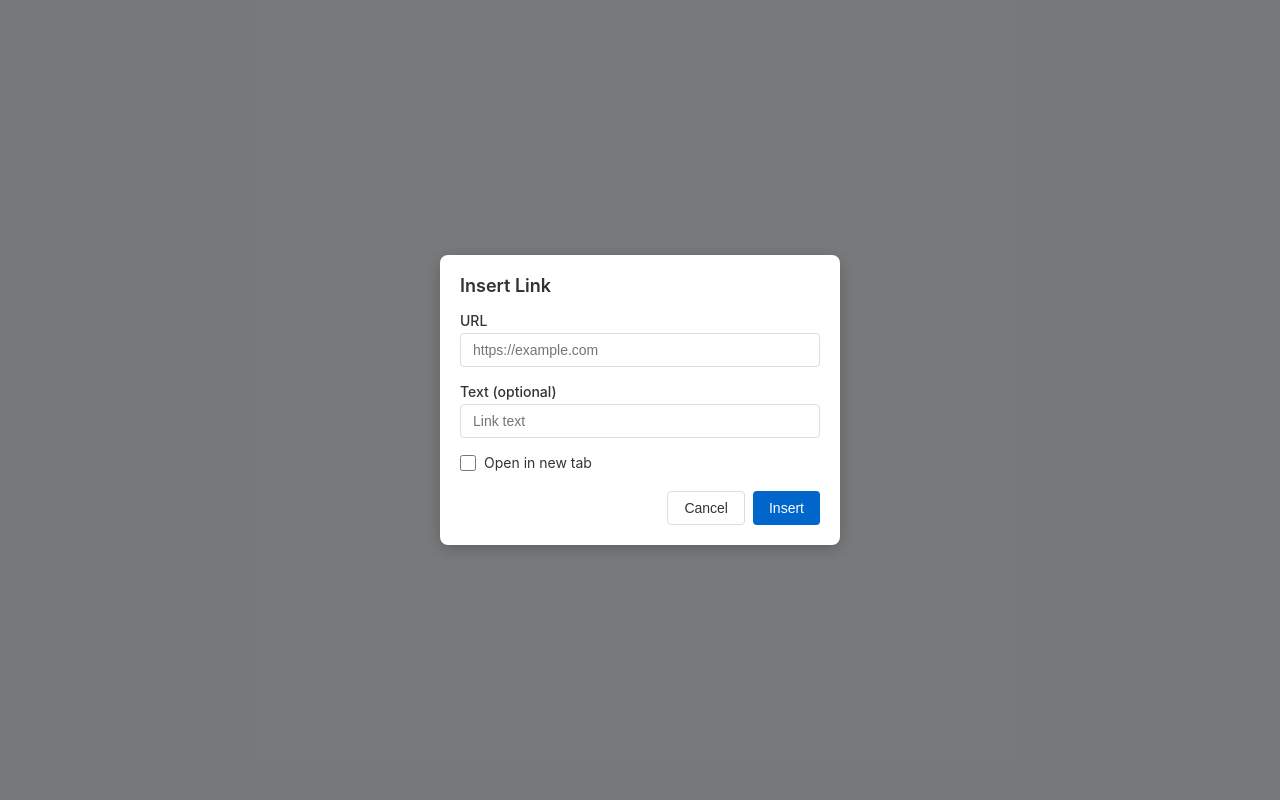
it: LinkDialog › Form Validation › shows error when URL is empty
Step 1. Click the button "Insert" → (786, 508), box [753,491,820,525]
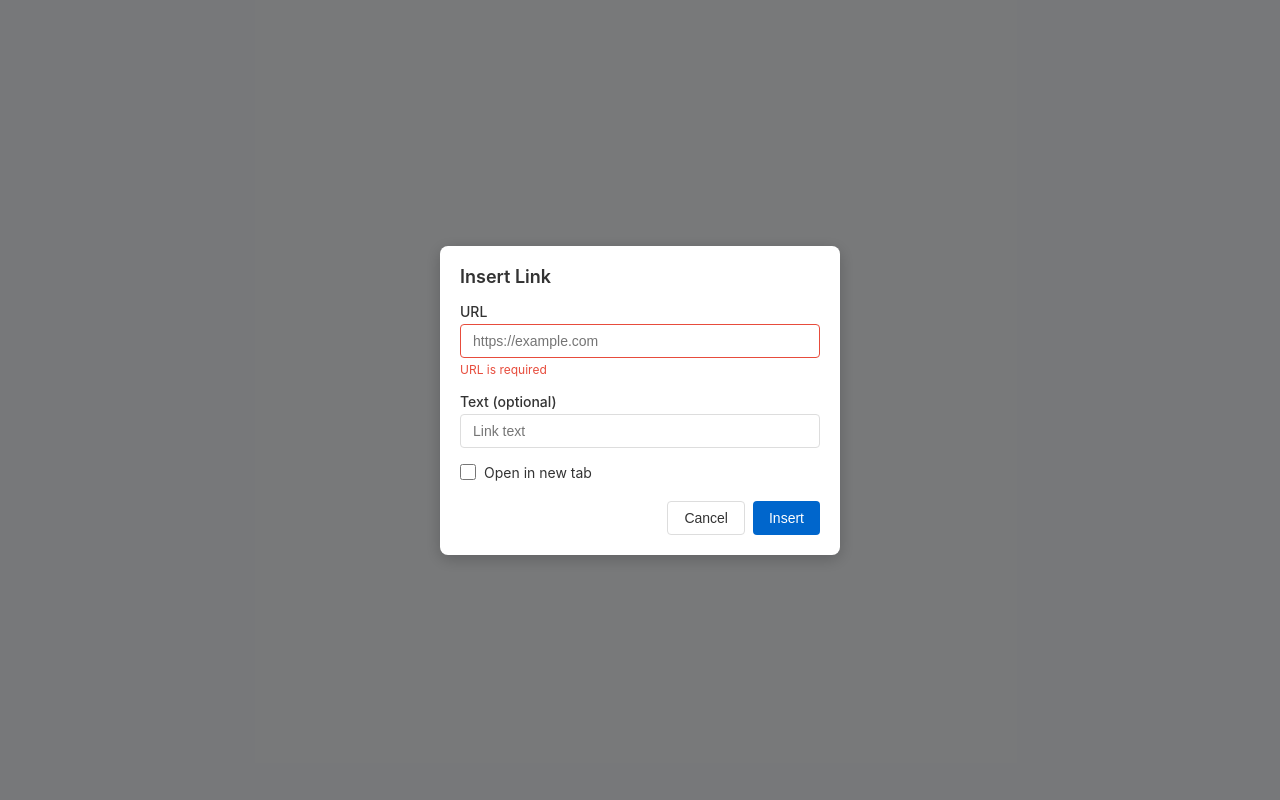
Check: the text "URL is required" is shown, box [460,362,547,376]
